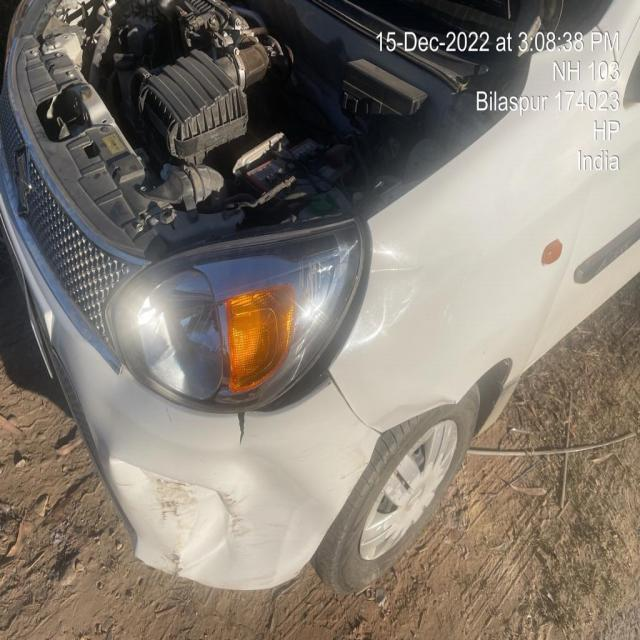damage: (105, 410, 329, 580), (344, 247, 426, 351), (370, 391, 457, 420), (350, 421, 377, 474)
